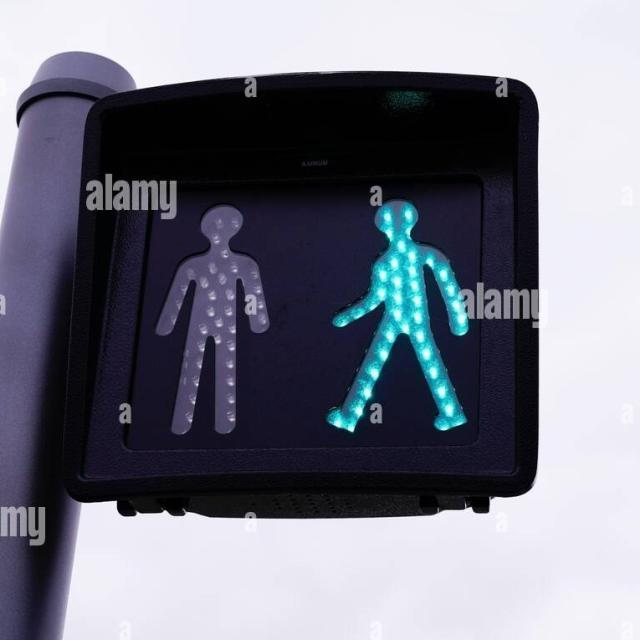green-light: (341, 188, 456, 415)
